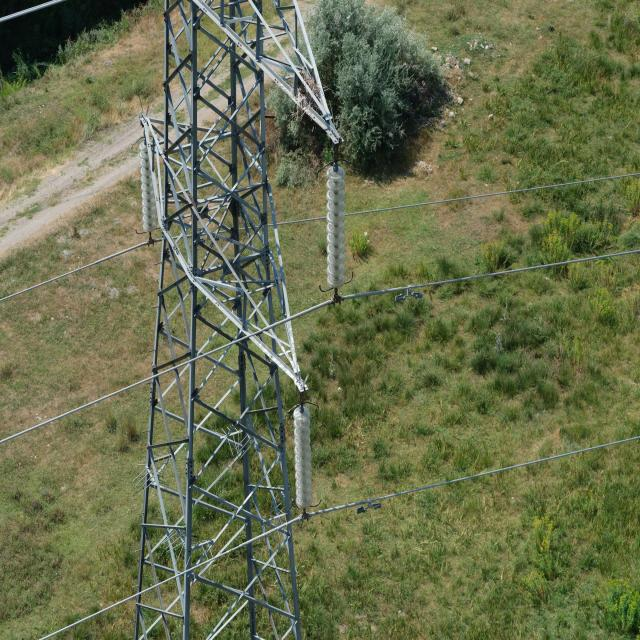direk: (137, 1, 307, 640)
tree: (295, 4, 438, 149)
